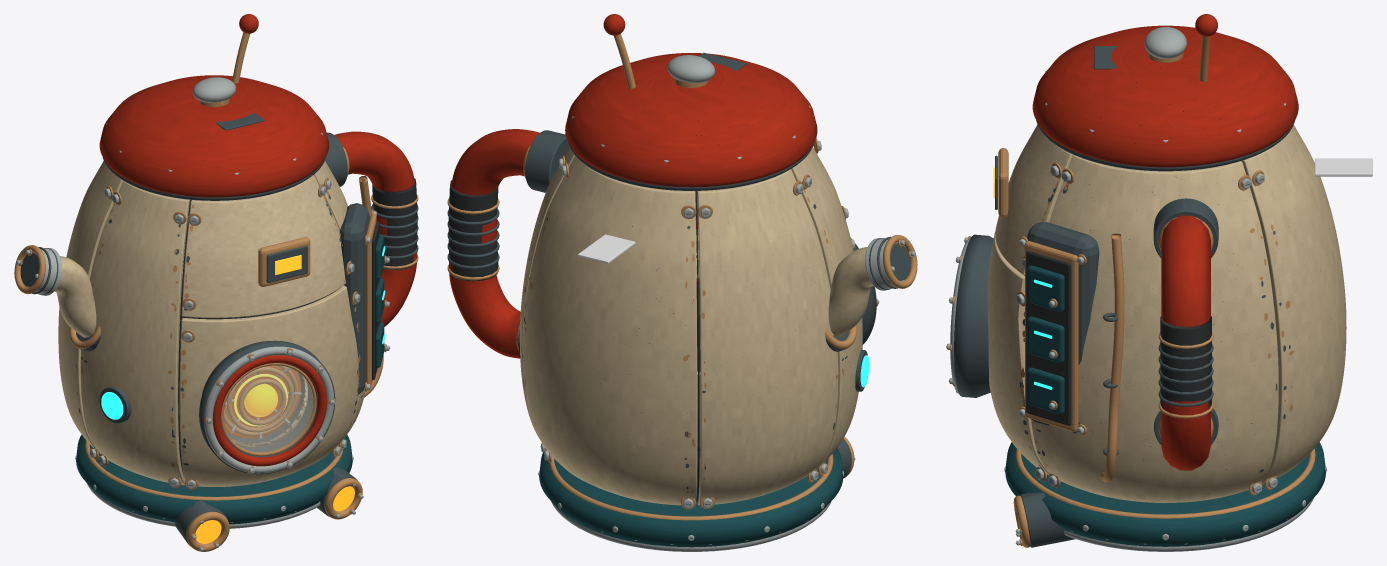
File: teapot.glb
3 views of the same model, side by side, from view 1: azimuth 30°, elevation 25°; view 2: azimuth 150°, elevation 25°; view 3: azimuth 270°, elevation 25° (orthographic). The views are drawn at different scales.
Visible parts, largest first — view 1: Left_side_ivory_casting, Red_orange_fitted_dome, Upper_front_ivory_casting, Lower_front_ivory_casting, Teal_compact_plinth, AP21_sealed_convex_glass, Left_rear_ivory_casting, Handle_cast_orange_structure, AP21_closed_reactor_chamber, AP21_outer_machined_bezel, AP21_red_cast_bezel, Dark_side_service_casting (+27 smaller); view 2: Rear_ivory_casting, Left_rear_ivory_casting, Red_orange_fitted_dome, Teal_compact_plinth, Handle_cast_orange_structure, Left_side_ivory_casting, Handle_inner_dark_grip, AP21_short_cast_outlet, Handle_hinge_pin, Plinth_copper_upper_seal, Right_ivory_casting, Plinth_steel_lower_rim (+8 smaller); view 3: Right_ivory_casting, Red_orange_fitted_dome, Rear_ivory_casting, Teal_compact_plinth, Handle_cast_orange_structure, Lower_front_ivory_casting, Upper_front_ivory_casting, AP21_closed_reactor_chamber, Side_service_recess, Handle_inner_dark_grip, Dark_side_service_casting, Side_copper_feed (+13 smaller).
Part boxes in pixels (x1,y1,x2,y2): Left_side_ivory_casting: [80, 181, 189, 485]; Red_orange_fitted_dome: [99, 75, 329, 197]; Upper_front_ivory_casting: [181, 175, 345, 317]; Lower_front_ivory_casting: [179, 285, 358, 486]; Teal_compact_plinth: [76, 434, 352, 524]; AP21_sealed_convex_glass: [223, 365, 313, 452]; Left_rear_ivory_casting: [58, 161, 123, 453]; Handle_cast_orange_structure: [334, 131, 417, 326]; AP21_closed_reactor_chamber: [199, 340, 335, 474]; AP21_outer_machined_bezel: [204, 346, 334, 473]; AP21_red_cast_bezel: [212, 355, 326, 466]; Dark_side_service_casting: [339, 203, 369, 394]; Rear_ivory_casting: [522, 156, 697, 505]; Left_rear_ivory_casting: [697, 169, 838, 505]; Red_orange_fitted_dome: [565, 53, 817, 187]; Teal_compact_plinth: [539, 448, 843, 547]; Handle_cast_orange_structure: [449, 129, 539, 358]; Left_side_ivory_casting: [791, 147, 862, 469]; Handle_inner_dark_grip: [448, 180, 498, 281]; AP21_short_cast_outlet: [828, 247, 873, 336]; Handle_hinge_pin: [525, 130, 569, 192]; Plinth_copper_upper_seal: [549, 454, 833, 520]; Right_ivory_casting: [519, 147, 574, 418]; Plinth_steel_lower_rim: [551, 501, 831, 551]; Right_ivory_casting: [1031, 155, 1278, 502]; Red_orange_fitted_dome: [1032, 25, 1298, 167]; Rear_ivory_casting: [1242, 124, 1346, 484]; Teal_compact_plinth: [1005, 442, 1325, 546]; Handle_cast_orange_structure: [1161, 215, 1210, 470]; Lower_front_ivory_casting: [987, 232, 1049, 474]; Upper_front_ivory_casting: [995, 124, 1073, 274]; AP21_closed_reactor_chamber: [954, 234, 993, 397]; Side_service_recess: [1026, 250, 1071, 425]; Handle_inner_dark_grip: [1160, 316, 1211, 413]; Dark_side_service_casting: [1027, 222, 1099, 433]; Side_copper_feed: [1100, 233, 1124, 482].
Bounding box in the file's own units: 3.19 × 3.38 × 2.5.
Materials: 13 (3 with a texture image).
